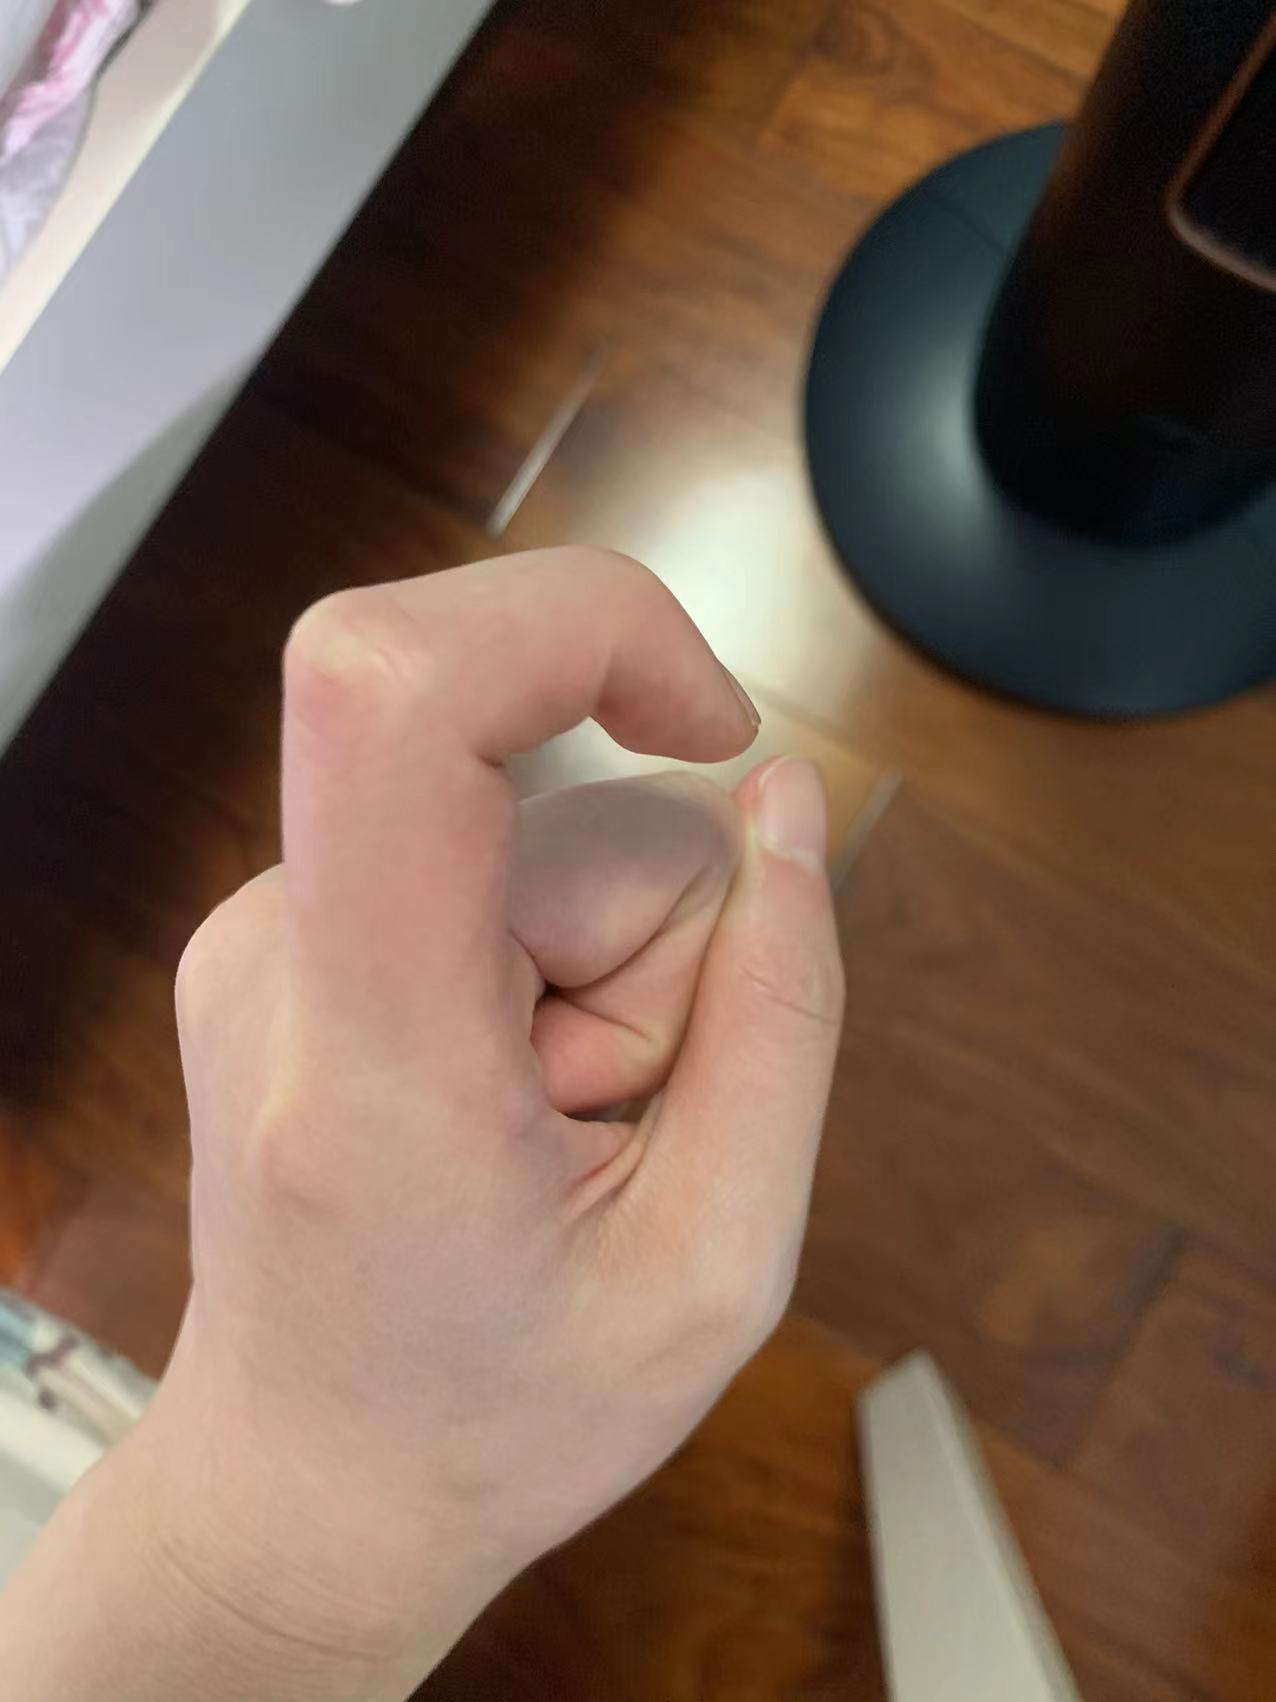anticlockwise: (174, 537, 865, 1473)
